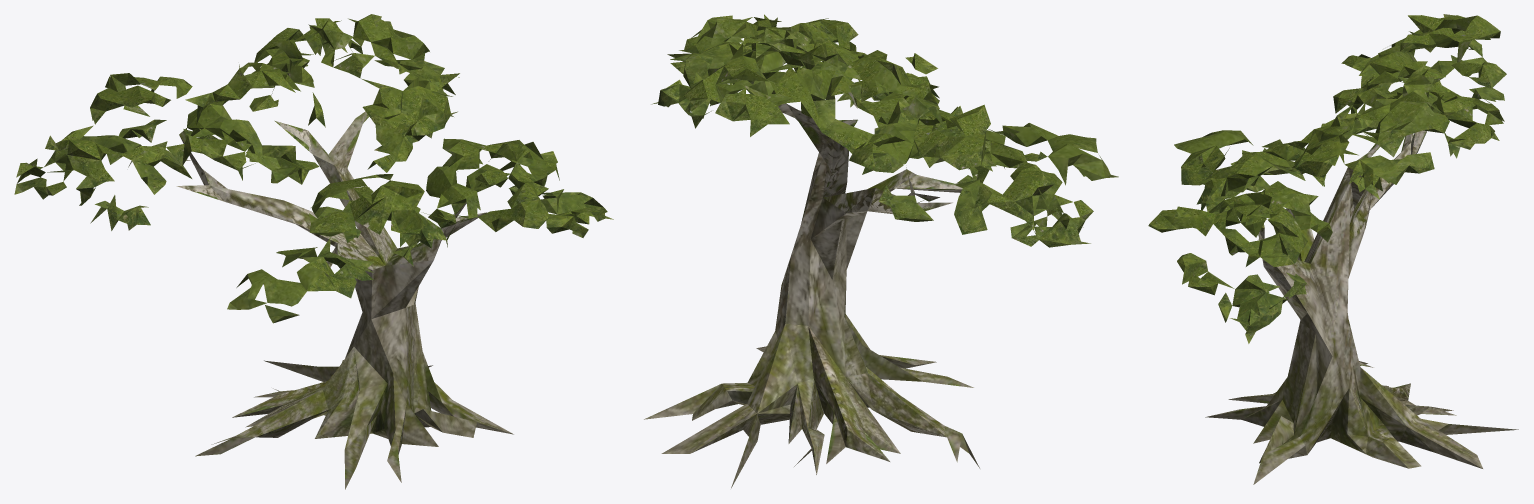
The model's file is fo_buttress_tree.glb.
3 renders of one model, left to right at view 1: azimuth 30°, elevation 25°; view 2: azimuth 150°, elevation 25°; view 3: azimuth 270°, elevation 25°, orthographic. The views are drawn at different scales.
Parts seen in each view (by area): view 1: output_unwrapped; view 2: output_unwrapped; view 3: output_unwrapped.
Boxes of the visible parts, x1,y1,x2,y2 form: output_unwrapped: [14, 14, 613, 489]; output_unwrapped: [644, 14, 1118, 488]; output_unwrapped: [1148, 14, 1518, 484].
Size of the model in its own units: 1.89 by 1.37 by 1.26.
1 material, 1 textured.
